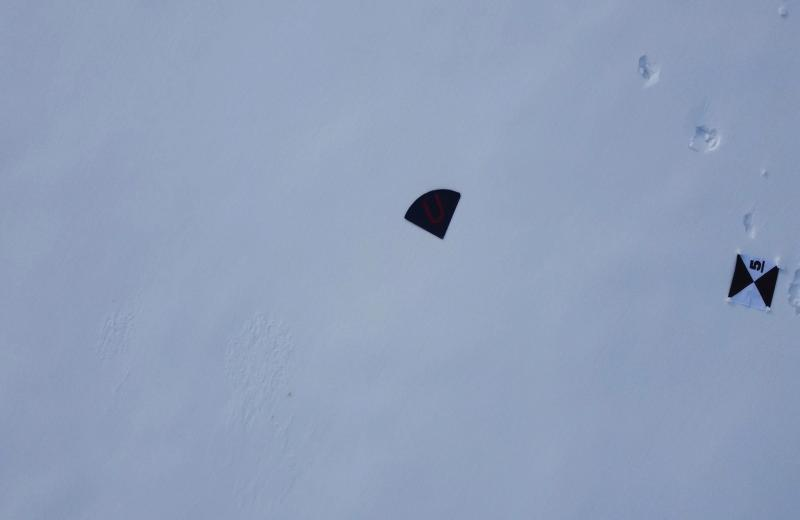Quarter Circle: (405, 185, 461, 242)
